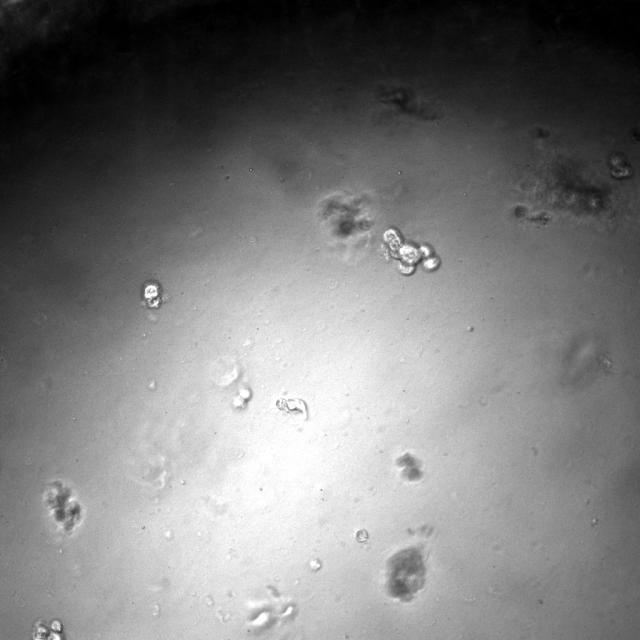organoid: (511, 127, 613, 225), (317, 191, 372, 244), (382, 227, 440, 275), (42, 480, 85, 537), (378, 85, 441, 120), (386, 547, 426, 599), (395, 452, 422, 482), (141, 281, 168, 309), (275, 397, 306, 418), (32, 619, 64, 639), (608, 153, 632, 179), (232, 387, 251, 409), (354, 529, 368, 542)
